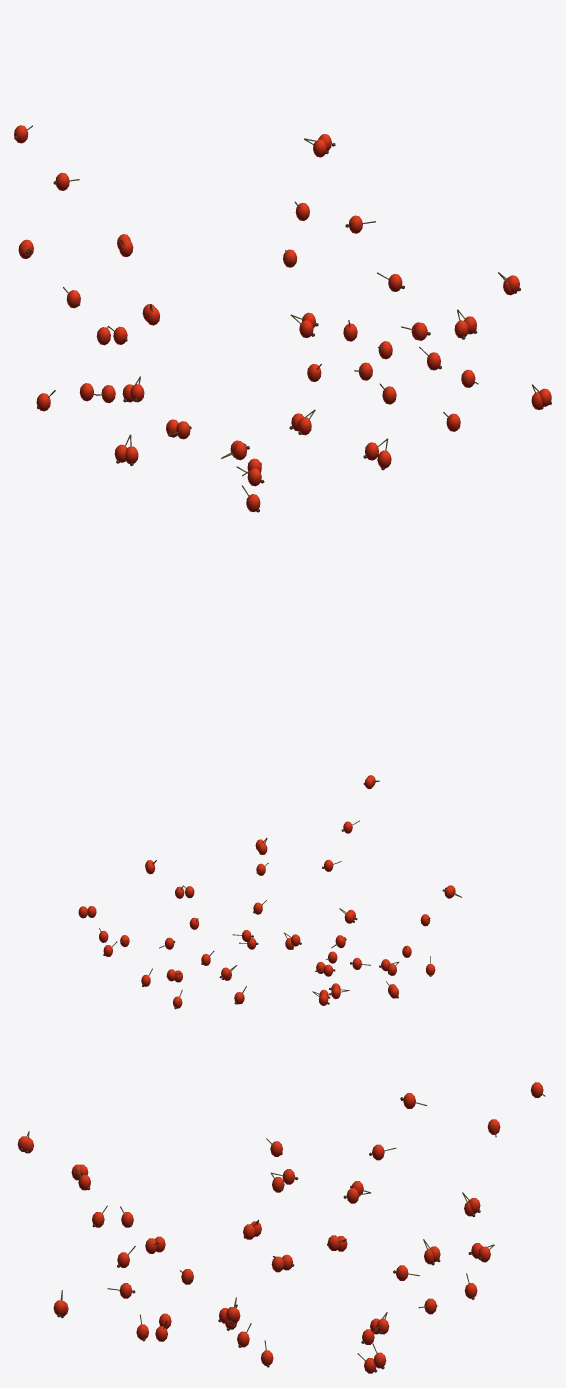
Rendered from rosehipfruit.glb.
3 views of the same model, one above another, from view 1: azimuth 30°, elevation 25°; view 2: azimuth 150°, elevation 25°; view 3: azimuth 270°, elevation 25° (orthographic). The views are drawn at different scales.
Visible parts, largest first — view 1: rosehipfruit; view 2: rosehipfruit; view 3: rosehipfruit.
Part boxes in pixels (left/top/right/bottom): rosehipfruit: left=14, top=125, right=551, bottom=512; rosehipfruit: left=78, top=775, right=461, bottom=1009; rosehipfruit: left=17, top=1082, right=545, bottom=1373.
Size of the model in its own units: 1.34 by 0.9978 by 1.43.
1 material, 1 textured.
